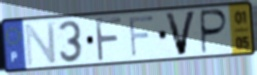3: (57, 19, 85, 65)
F: (93, 16, 124, 63), (127, 14, 156, 59)
N: (23, 20, 59, 68)
P: (200, 8, 230, 56)
V: (163, 9, 199, 57)
